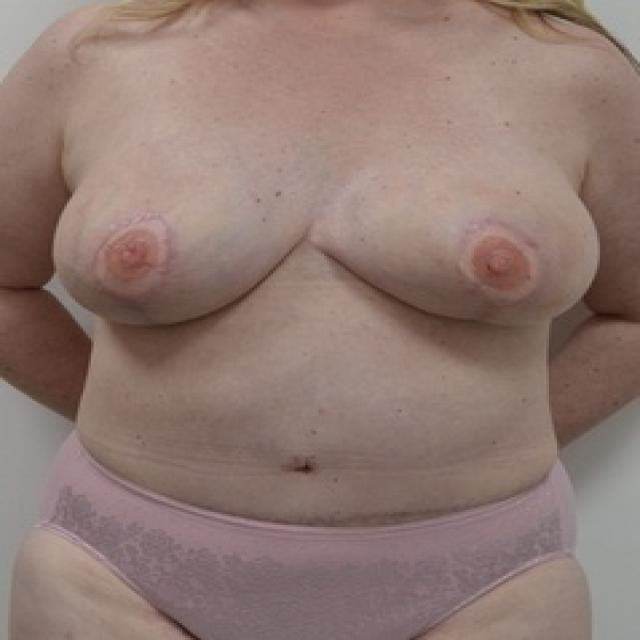Seno herido: (310, 118, 612, 350), (41, 118, 303, 350)
